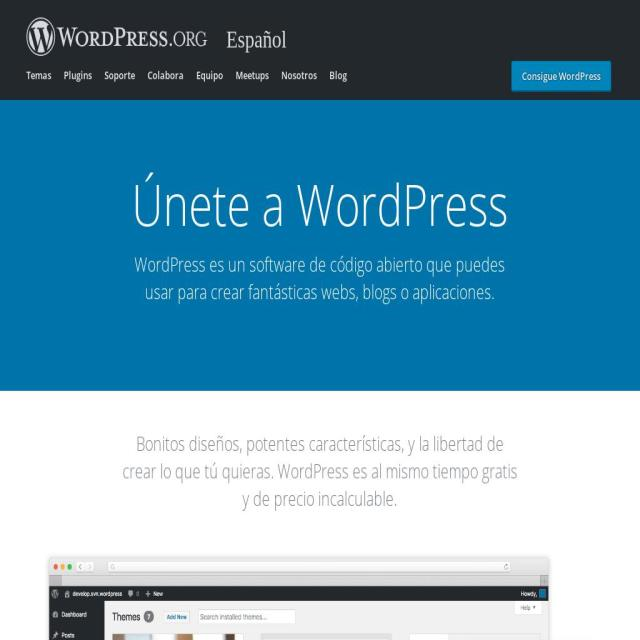button: (512, 62, 610, 100), (511, 61, 611, 91), (144, 61, 188, 99), (278, 61, 320, 99), (232, 61, 272, 99), (100, 61, 138, 99), (60, 61, 96, 99), (192, 61, 227, 99), (23, 61, 55, 99), (326, 61, 350, 99)
heading: (26, 0, 209, 73), (226, 30, 287, 73)
image: (48, 557, 549, 640), (471, 636, 596, 640)
text: (26, 175, 614, 233), (120, 430, 520, 513), (120, 241, 520, 315)
